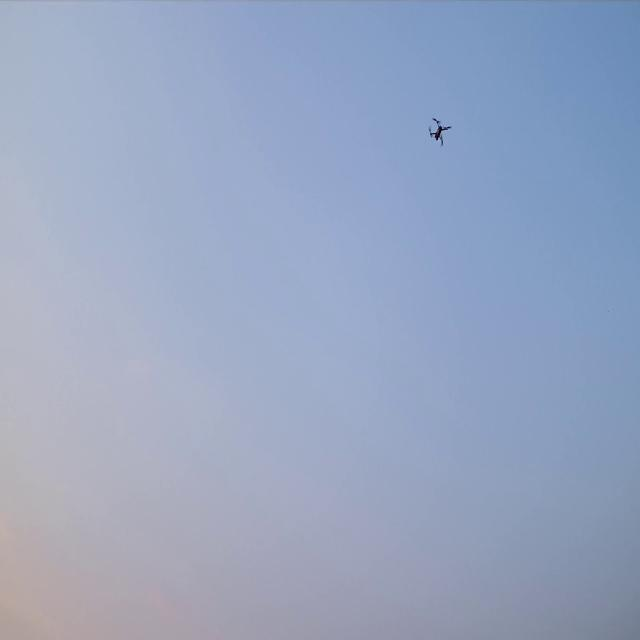UAV: (426, 114, 452, 147)
